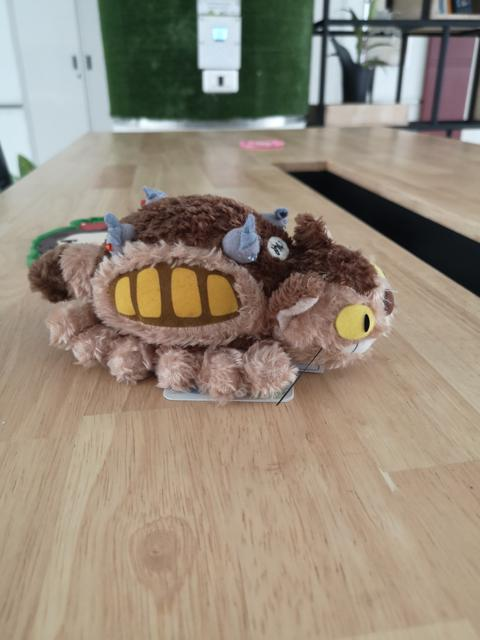nekobus: (24, 179, 399, 414)
